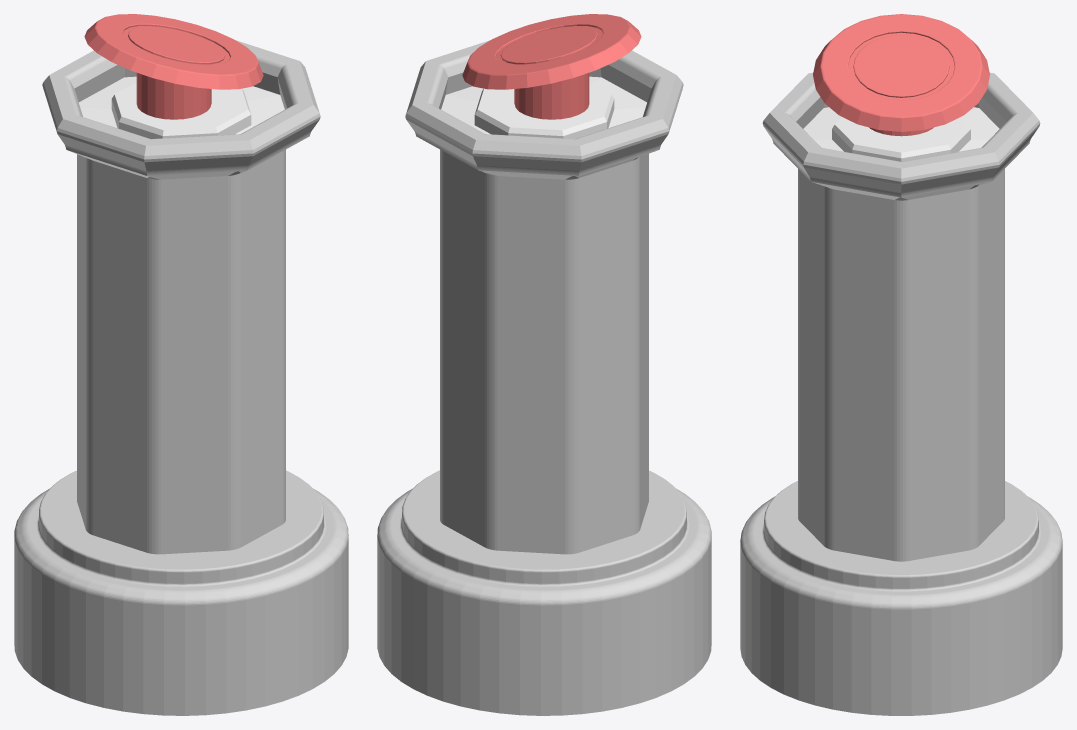
The model's file is Button.fbx.
3 renders of one model, left to right at view 1: azimuth 30°, elevation 25°; view 2: azimuth 150°, elevation 25°; view 3: azimuth 270°, elevation 25°, orthographic. The views are drawn at different scales.
Parts seen in each view (by area): view 1: Middle, Bottom, Button, Top; view 2: Middle, Bottom, Button, Top; view 3: Middle, Bottom, Button, Top.
Boxes of the visible parts, box(x1,y1,x2,y2) form: Middle: box(42, 40, 320, 554); Bottom: box(14, 470, 348, 715); Button: box(84, 14, 263, 119); Top: box(79, 76, 284, 138); Middle: box(405, 40, 683, 554); Bottom: box(377, 470, 711, 715); Button: box(462, 14, 641, 119); Top: box(441, 76, 646, 138); Middle: box(762, 72, 1040, 561); Bottom: box(740, 481, 1062, 715); Button: box(813, 14, 989, 136); Top: box(803, 107, 999, 161).
Size of the model in its own units: 51.92 by 107 by 52.02.
